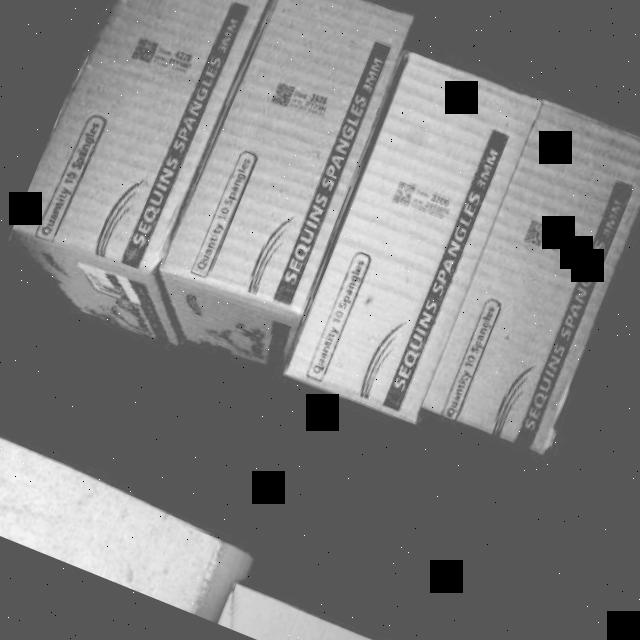box: (284, 51, 542, 424), (423, 95, 640, 454), (171, 0, 413, 313), (13, 0, 273, 281)
